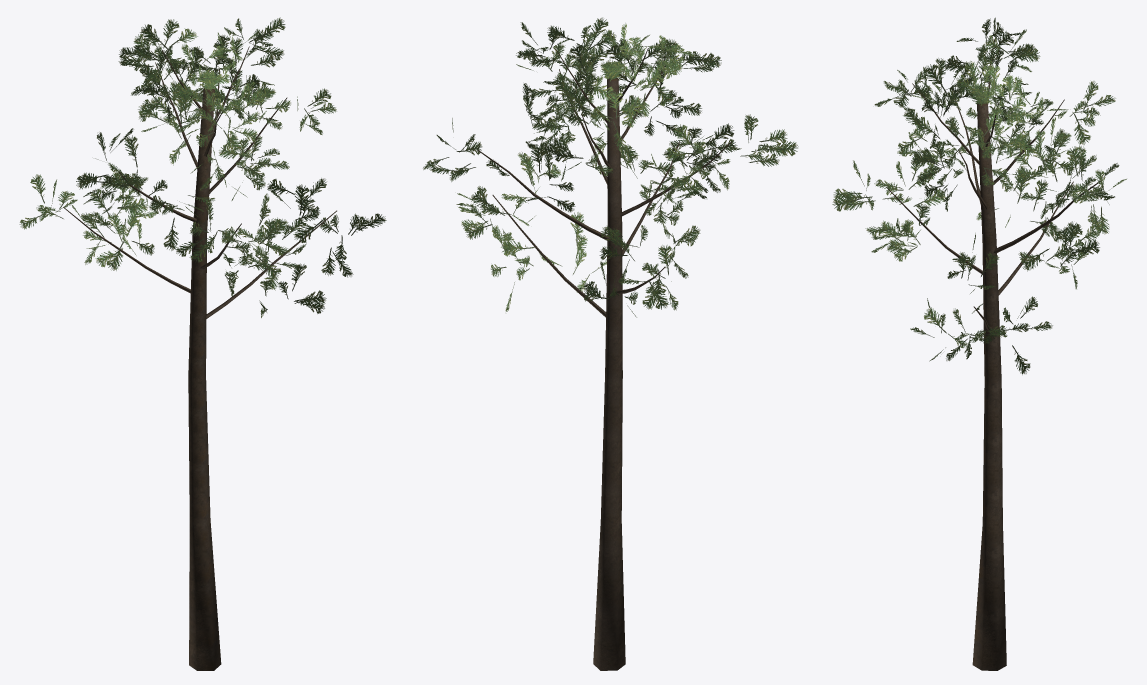
Rendered from pine_open_v01_LOD2.fbx.
The picture shows the model from 3 angles, left to right: view 1: azimuth 30°, elevation 25°; view 2: azimuth 150°, elevation 25°; view 3: azimuth 270°, elevation 25°; orthographic projection. The views are drawn at different scales.
Parts seen in each view (by area): view 1: pine_open_v01_LOD2; view 2: pine_open_v01_LOD2; view 3: pine_open_v01_LOD2.
Boxes of the visible parts, x1=… form: pine_open_v01_LOD2: x1=19, y1=17, x2=386, y2=670; pine_open_v01_LOD2: x1=423, y1=17, x2=798, y2=670; pine_open_v01_LOD2: x1=832, y1=17, x2=1126, y2=670.
Bounding box in the file's own units: 948 × 784 × 1789.
2 materials, 2 textured.
